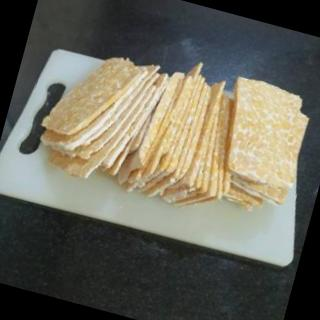Tempe: (28, 24, 320, 236)
